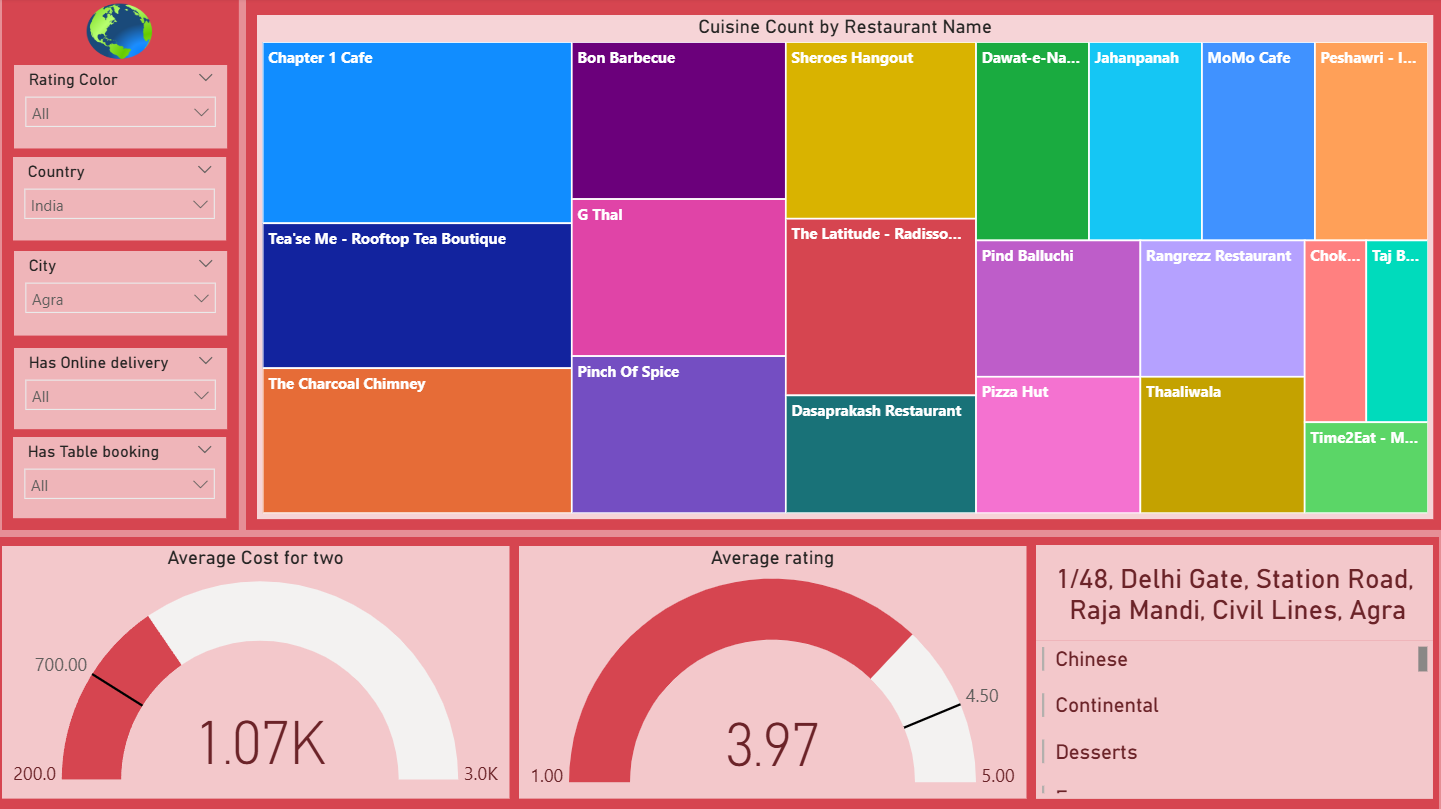

This screenshot's page, from the dashboard's own definition file:
{"tool":"powerbi","page":{"name":"Restaurant Analysis","canvas":[1280,720],"ordinal":1},"visuals":[{"type":"shape","box":[2.7,0,210.1,471.7],"z":0},{"type":"slicer","fields":{"Values":["KPIs.Rating Color"]},"box":[13.3,59.4,188.9,74.5],"z":1000},{"type":"slicer","fields":{"Values":["Country Master.Country"]},"box":[12.4,141,188.9,73.6],"z":2000},{"type":"slicer","fields":{"Values":["Combined Restaurant File.City"]},"box":[13.3,224.3,188.9,75.4],"z":3000},{"type":"slicer","fields":{"Values":["KPIs.Has Online delivery"]},"box":[13.3,310.3,188.9,71.8],"z":4000},{"type":"slicer","fields":{"Values":["KPIs.Has Table booking"]},"box":[12.4,389.3,188.9,71.8],"z":5000},{"type":"shape","box":[219.2,0,1060.8,471.7],"z":6000},{"type":"treemap","fields":{"Group":["Combined Restaurant File.Restaurant Name"],"Values":["Cuisine.Cuisine Count"]},"box":[228.4,14.8,1043.2,446.7],"z":7000},{"type":"shape","box":[0,477.9,1276.8,242.1],"z":8000},{"type":"gauge","title":"Average Cost for two","fields":{"Y":["Avg(KPIs.Average Cost for two)"]},"box":[2.7,485.9,449.6,224.3],"z":9000},{"type":"gauge","fields":{"Y":["Avg(KPIs.Aggregate rating)"]},"box":[461.1,485.9,449.6,224.3],"z":10000},{"type":"card","fields":{"Values":["Min(Combined Restaurant File.Restaurant Address)"]},"box":[919.5,485,352,85.1],"z":11000},{"type":"multiRowCard","fields":{"Values":["Cuisine.Cuisine"]},"box":[919.5,570.1,352,140.1],"z":12000},{"type":"image","box":[73.1,0,67.5,59.2],"z":13001}]}

Visuals, with their boxes in screenshot pixels (x1, y1, x2, y2), scaled from the page's 1280x720 canvas onto the 1441x809 screenshot:
shape: box=[3, 0, 240, 530]
slicer - KPIs.Rating Color: box=[15, 67, 228, 150]
slicer - Country Master.Country: box=[14, 158, 227, 241]
slicer - Combined Restaurant File.City: box=[15, 252, 228, 337]
slicer - KPIs.Has Online delivery: box=[15, 349, 228, 429]
slicer - KPIs.Has Table booking: box=[14, 437, 227, 518]
shape: box=[247, 0, 1440, 530]
treemap - Combined Restaurant File.Restaurant Name x Cuisine.Cuisine Count: box=[257, 17, 1432, 519]
shape: box=[0, 537, 1437, 808]
"Average Cost for two" gauge: box=[3, 546, 509, 798]
gauge - Avg(KPIs.Aggregate rating): box=[519, 546, 1025, 798]
card - Min(Combined Restaurant File.Restaurant Address): box=[1035, 545, 1431, 641]
multiRowCard - Cuisine.Cuisine: box=[1035, 641, 1431, 798]
image: box=[82, 0, 158, 67]
